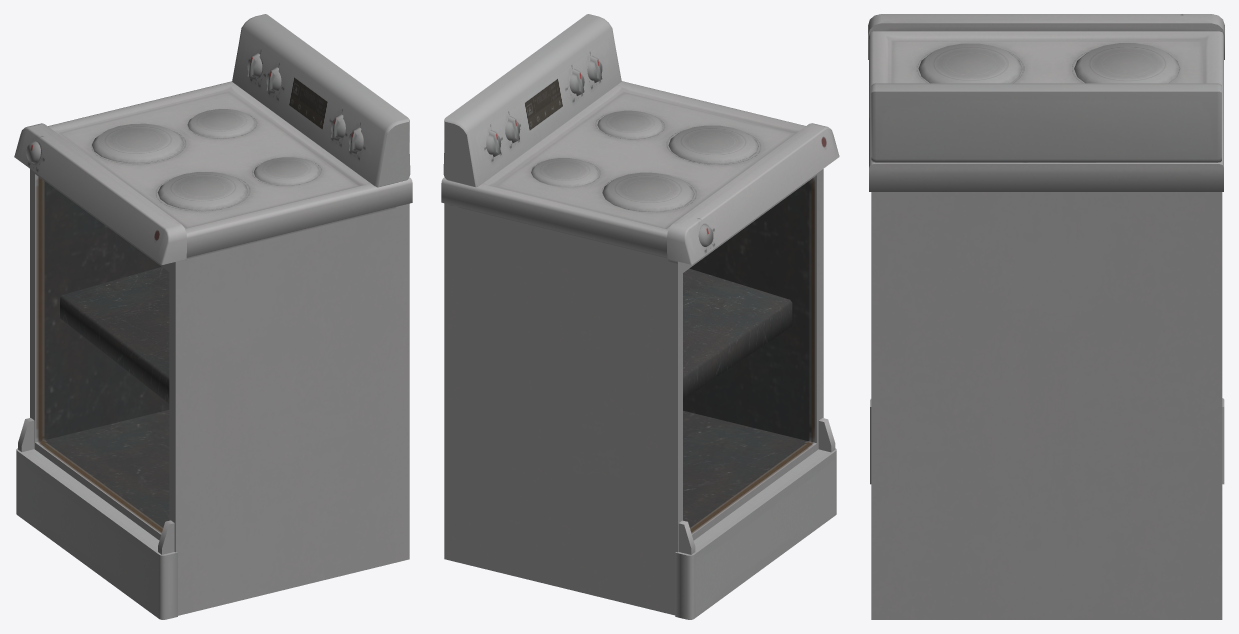
The model's file is SM_Oven_A1.fbx.
The picture shows the model from 3 angles, left to right: view 1: azimuth 30°, elevation 25°; view 2: azimuth 150°, elevation 25°; view 3: azimuth 270°, elevation 25°; orthographic projection. The views are drawn at different scales.
Parts seen in each view (by area): view 1: SM_Oven_A1; view 2: SM_Oven_A1; view 3: SM_Oven_A1.
Part boxes in pixels (bbox=[...]): SM_Oven_A1: bbox=[14, 14, 412, 619]; SM_Oven_A1: bbox=[441, 14, 839, 619]; SM_Oven_A1: bbox=[868, 14, 1224, 619].
Size of the model in its own units: 59.07 by 60.06 by 98.34.
Materials: 1 (1 with a texture image).
